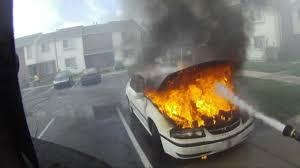fire: (142, 62, 239, 127)
